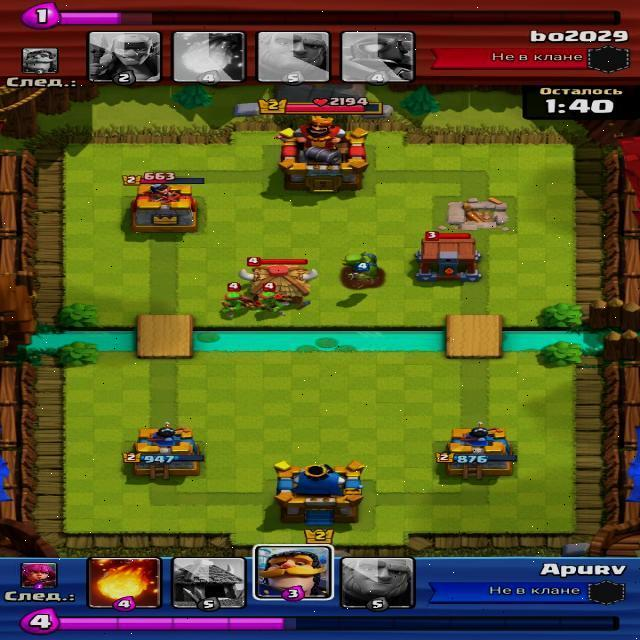EGoblinCage: (416, 231, 479, 281)
EGoblinHut: (241, 257, 316, 306)
EKingTower: (276, 124, 368, 191)
ESpearGoblin: (220, 282, 252, 319), (255, 282, 287, 319)
EnemyPrincessTower: (131, 180, 197, 232)
OBrawler: (341, 252, 382, 280)
OwnKingTower: (274, 462, 363, 524)
OwnPrincessTower: (124, 423, 203, 478), (436, 427, 516, 477)
TowerDown: (433, 198, 514, 230)
